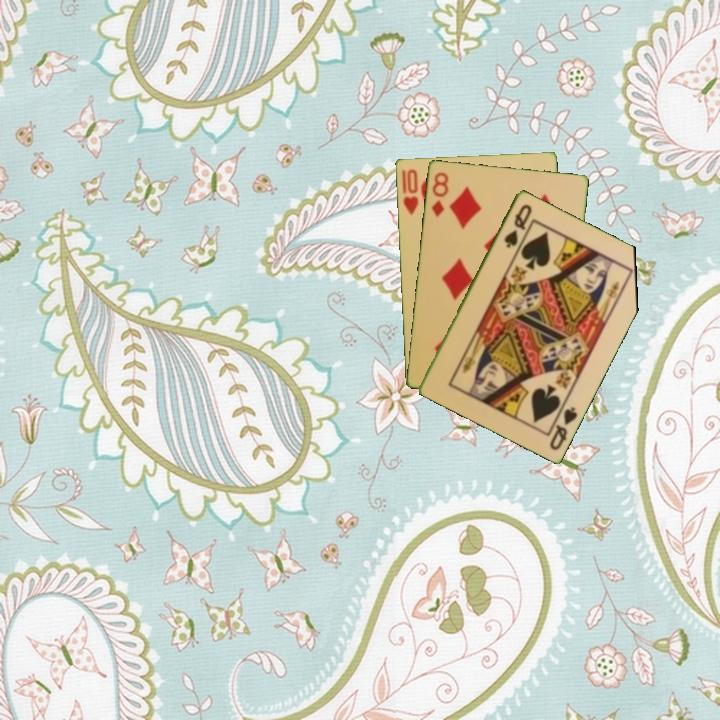10h: (398, 165, 421, 217)
8d: (428, 168, 451, 219)
Qs: (500, 200, 535, 251), (546, 403, 580, 453)
